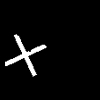single_crochet: (5, 35, 45, 75)
